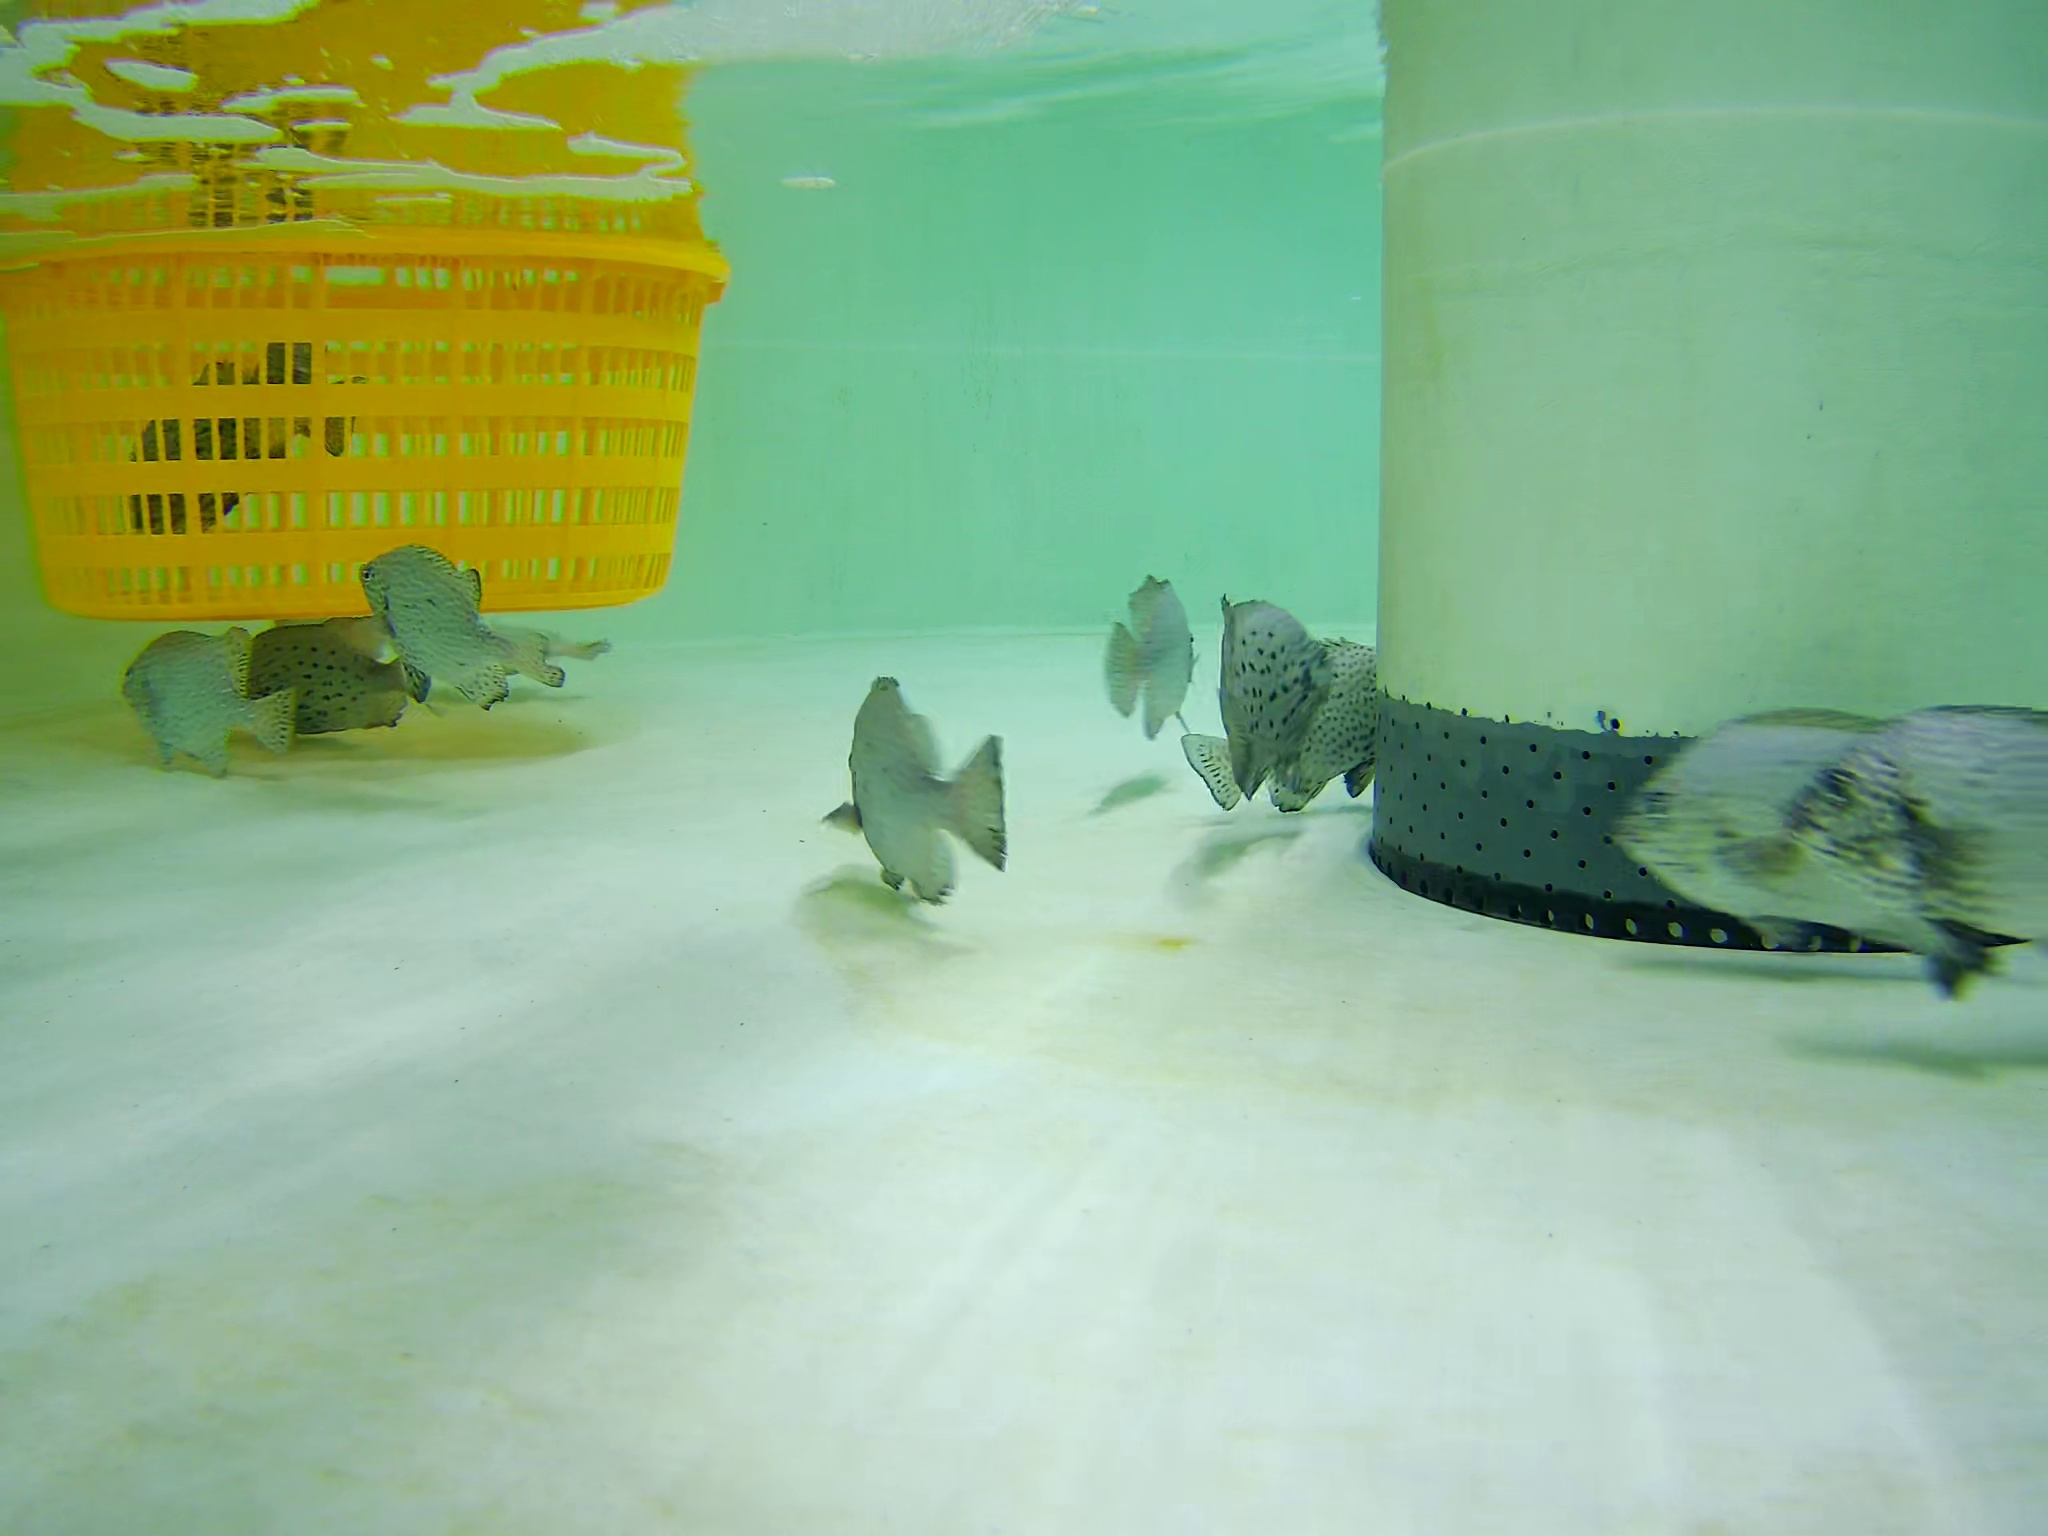fish: (1603, 705, 1979, 986), (1769, 703, 2048, 970), (824, 666, 1018, 918), (1185, 639, 1382, 815), (118, 345, 305, 521), (352, 550, 540, 716), (114, 621, 298, 783), (211, 618, 427, 737), (1214, 591, 1327, 789), (266, 253, 366, 457), (1093, 582, 1200, 724)
